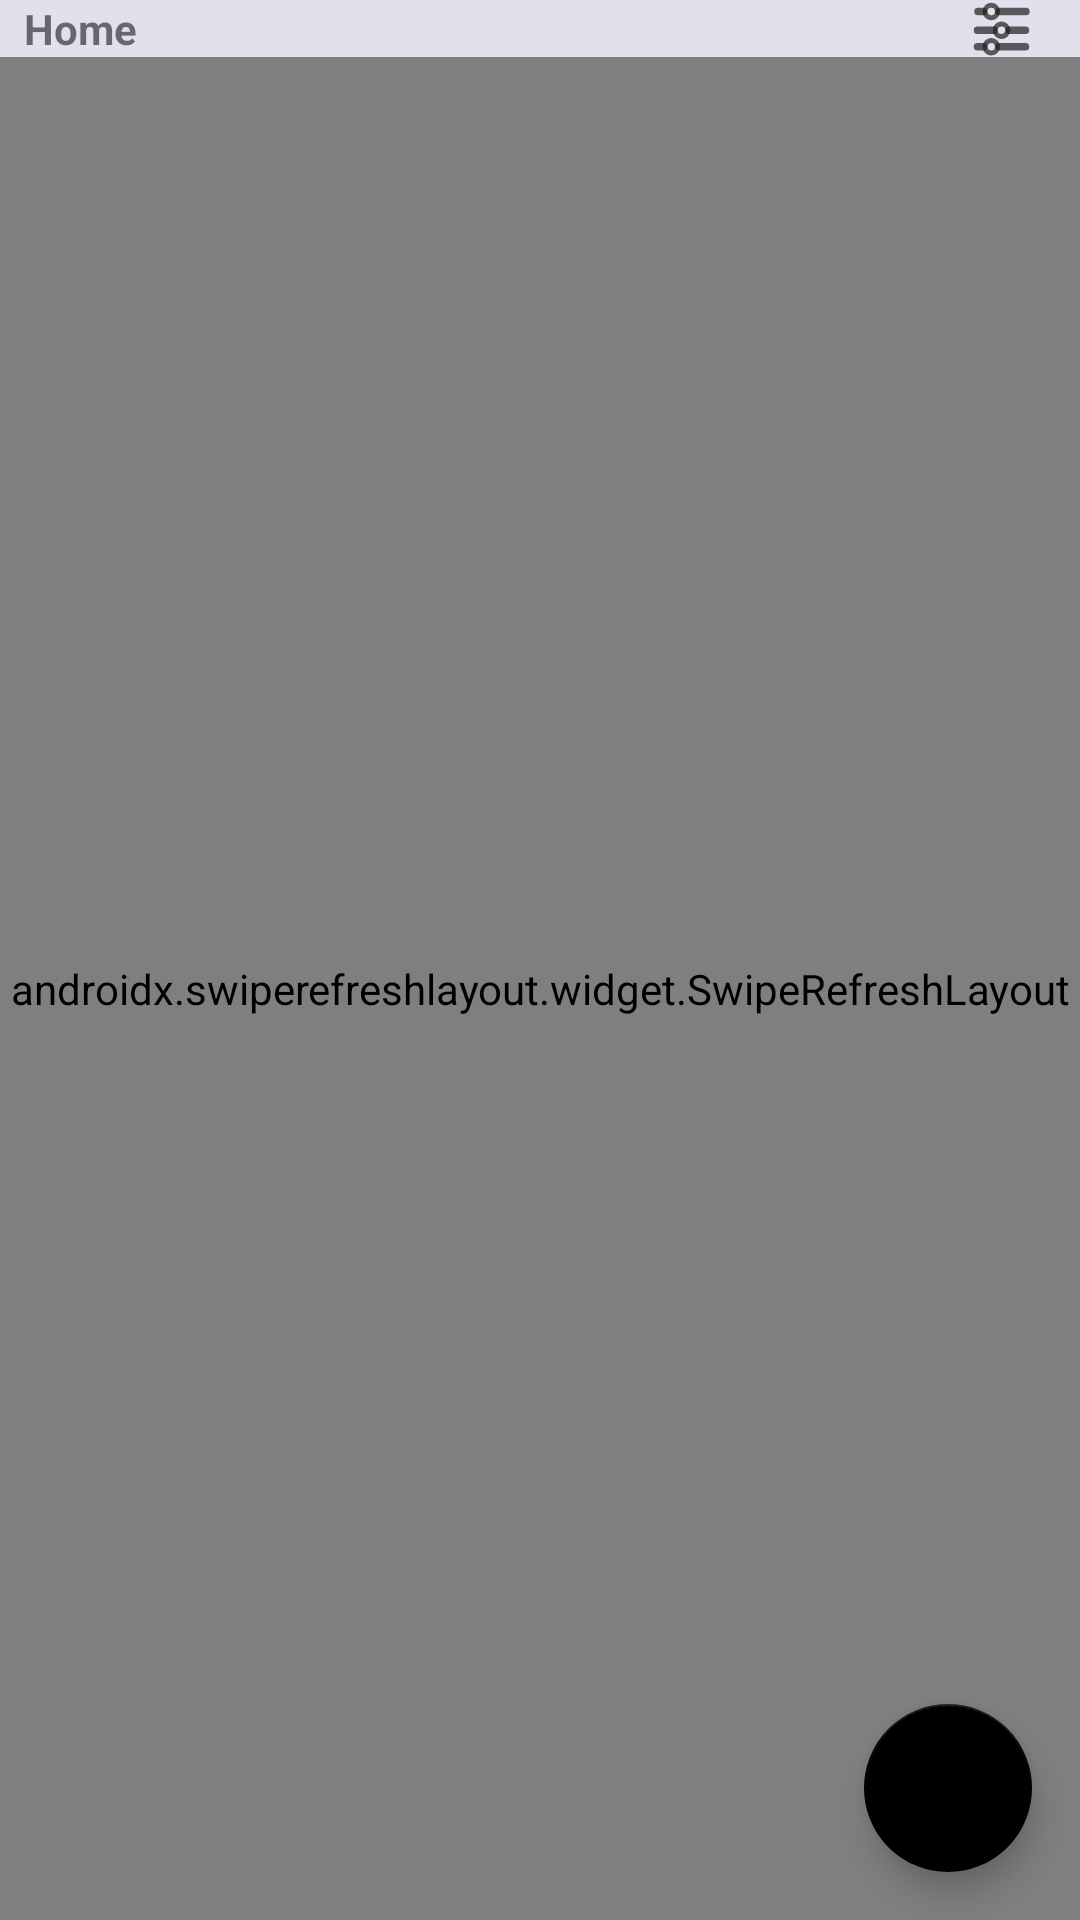

Named icons in this screenshot (1080w x 1920h) and their centers, (x,y):
Filter: (1002,30)
